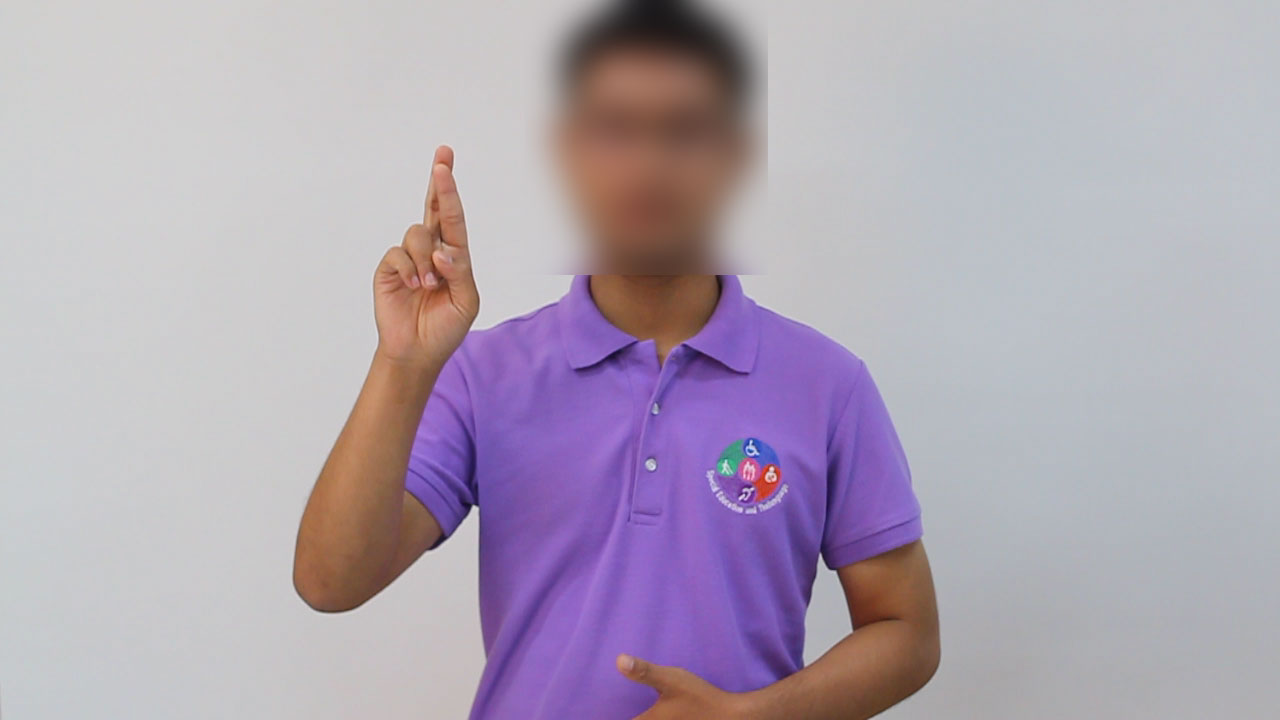rao: (350, 142, 485, 393)
